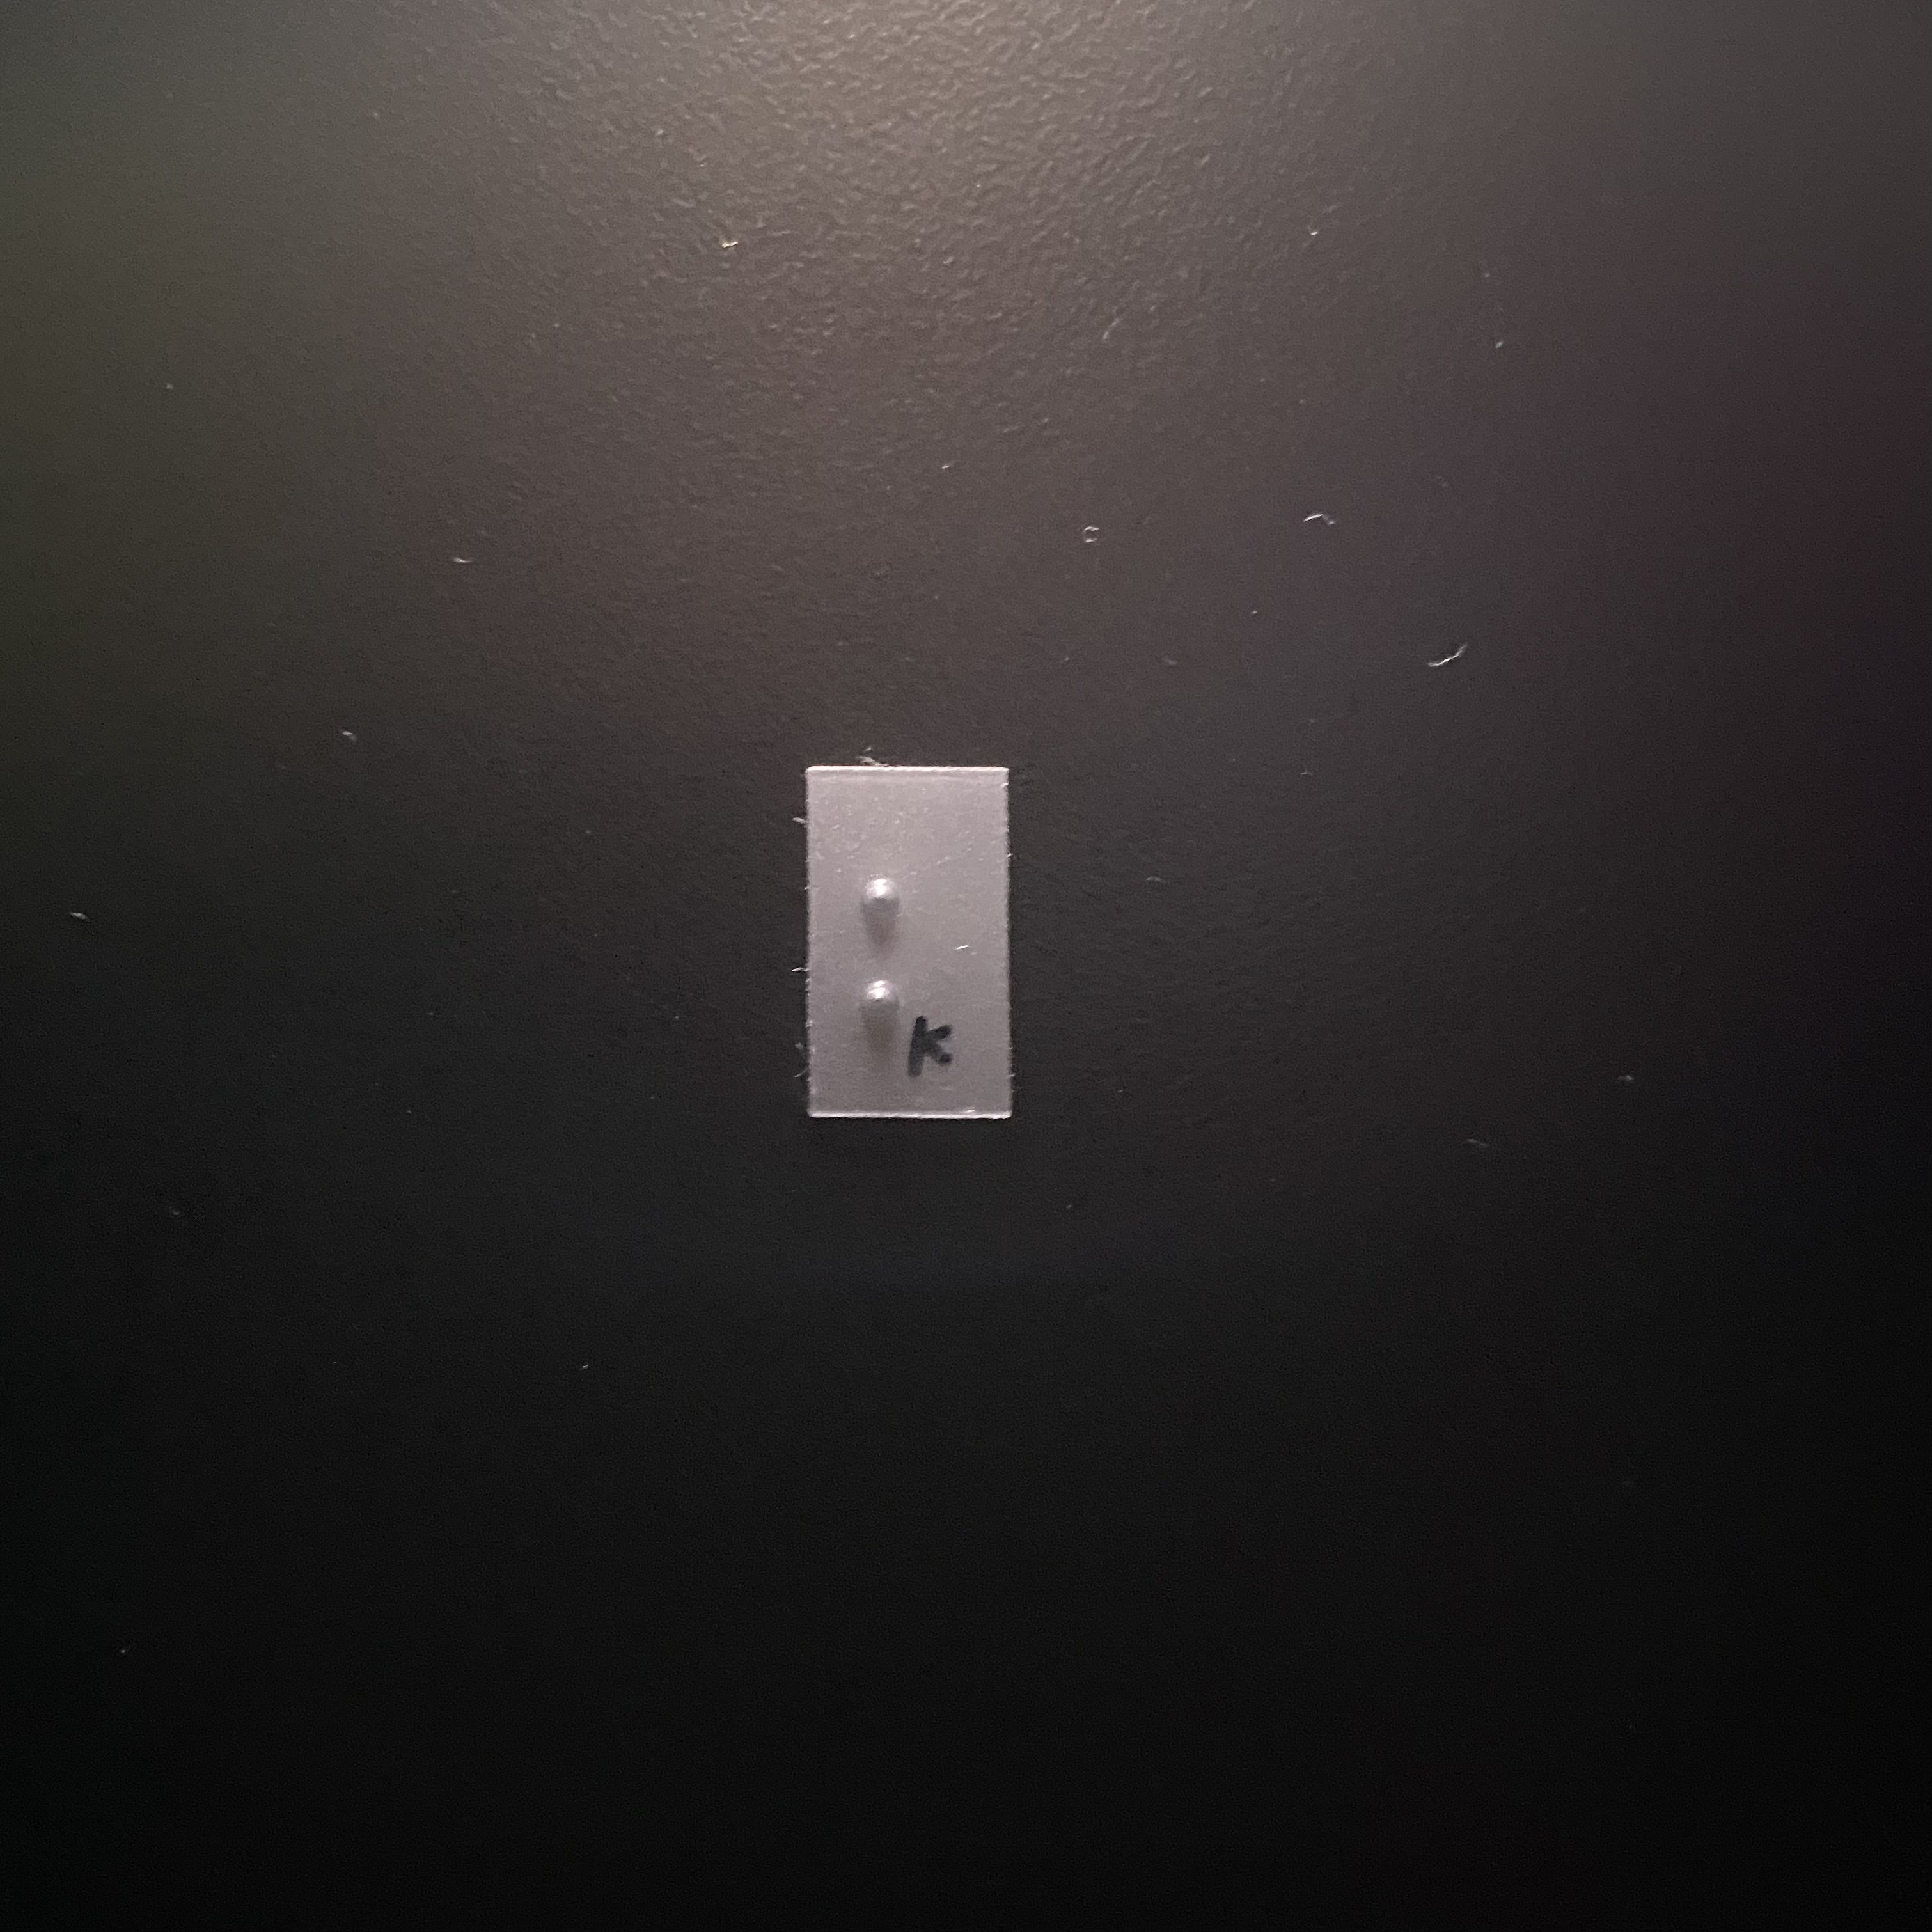k: (849, 865, 966, 1057)
